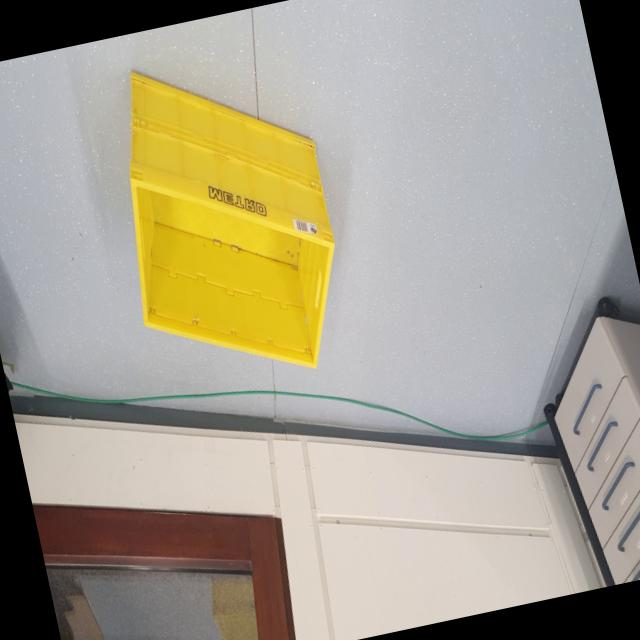box: (83, 30, 366, 403)
